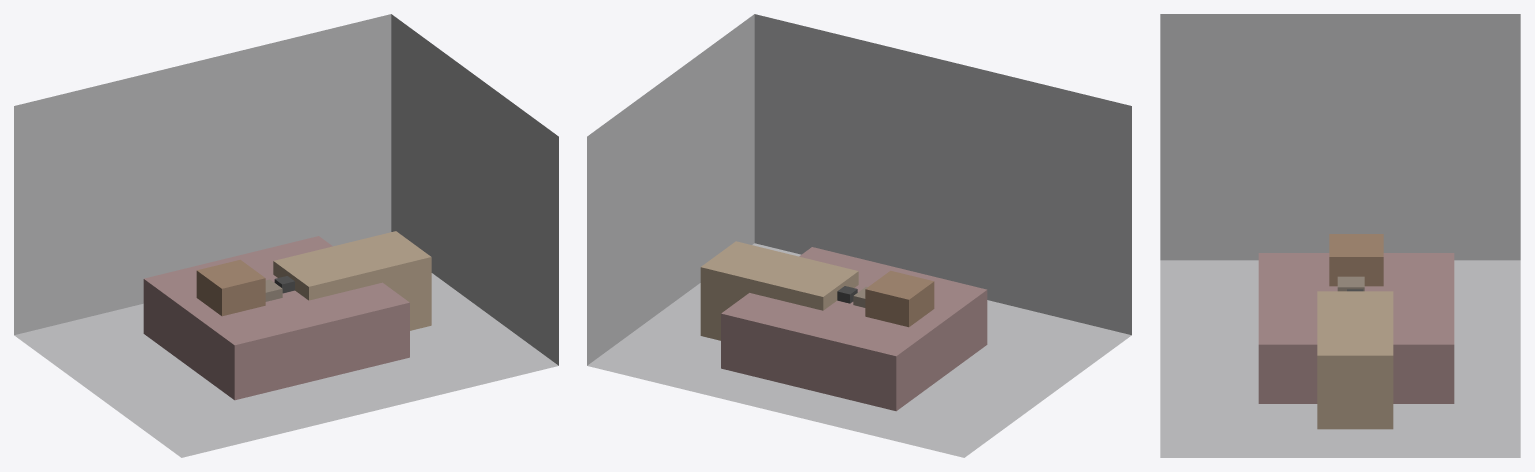
The model's file is optimised_layout.glb.
3 renders of one model, left to right at view 1: azimuth 30°, elevation 25°; view 2: azimuth 150°, elevation 25°; view 3: azimuth 270°, elevation 25°, orthographic. The views are drawn at different scales.
Visible parts, largest first — view 1: room, bed, desk, chair; view 2: room, bed, desk, chair; view 3: room, bed, desk, chair, suitcase.
Boxes of the visible parts, left/top/right/bottom form: room: left=14, top=14, right=558, bottom=457; bed: left=143, top=236, right=409, bottom=400; desk: left=273, top=231, right=431, bottom=330; chair: left=196, top=259, right=265, bottom=316; room: left=587, top=14, right=1131, bottom=457; bed: left=721, top=247, right=987, bottom=411; desk: left=700, top=241, right=858, bottom=340; chair: left=865, top=270, right=934, bottom=327; room: left=1160, top=14, right=1520, bottom=457; bed: left=1258, top=253, right=1454, bottom=403; desk: left=1317, top=291, right=1393, bottom=429; chair: left=1329, top=234, right=1383, bottom=286; suitcase: left=1337, top=276, right=1364, bottom=291.
Bounding box in the file's own units: 4.31 × 2.5 × 3.31.
